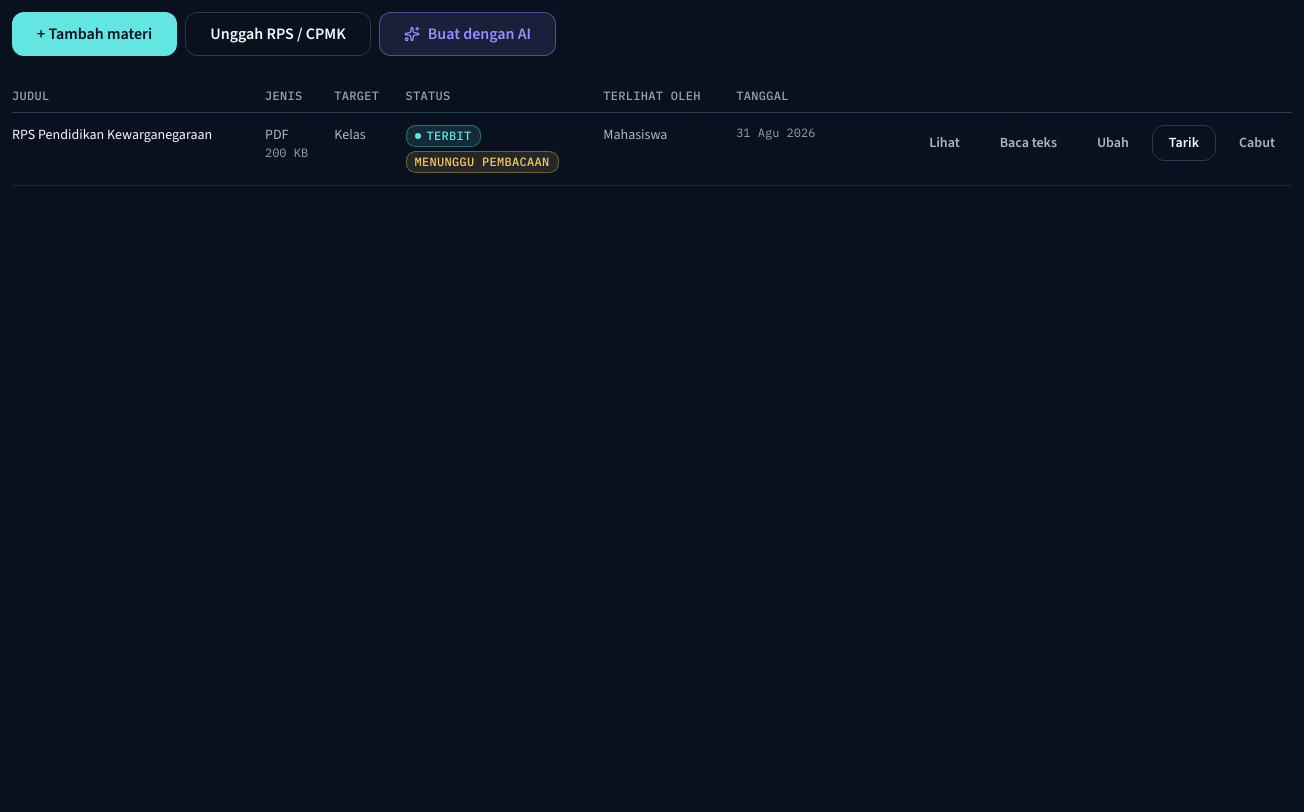
Test: aksi pada bahan › membuka formulir ubah dengan nilai yang sudah ada
Click the button "Ubah".
click(1113, 143)  # box 1080,125 -> 1146,161
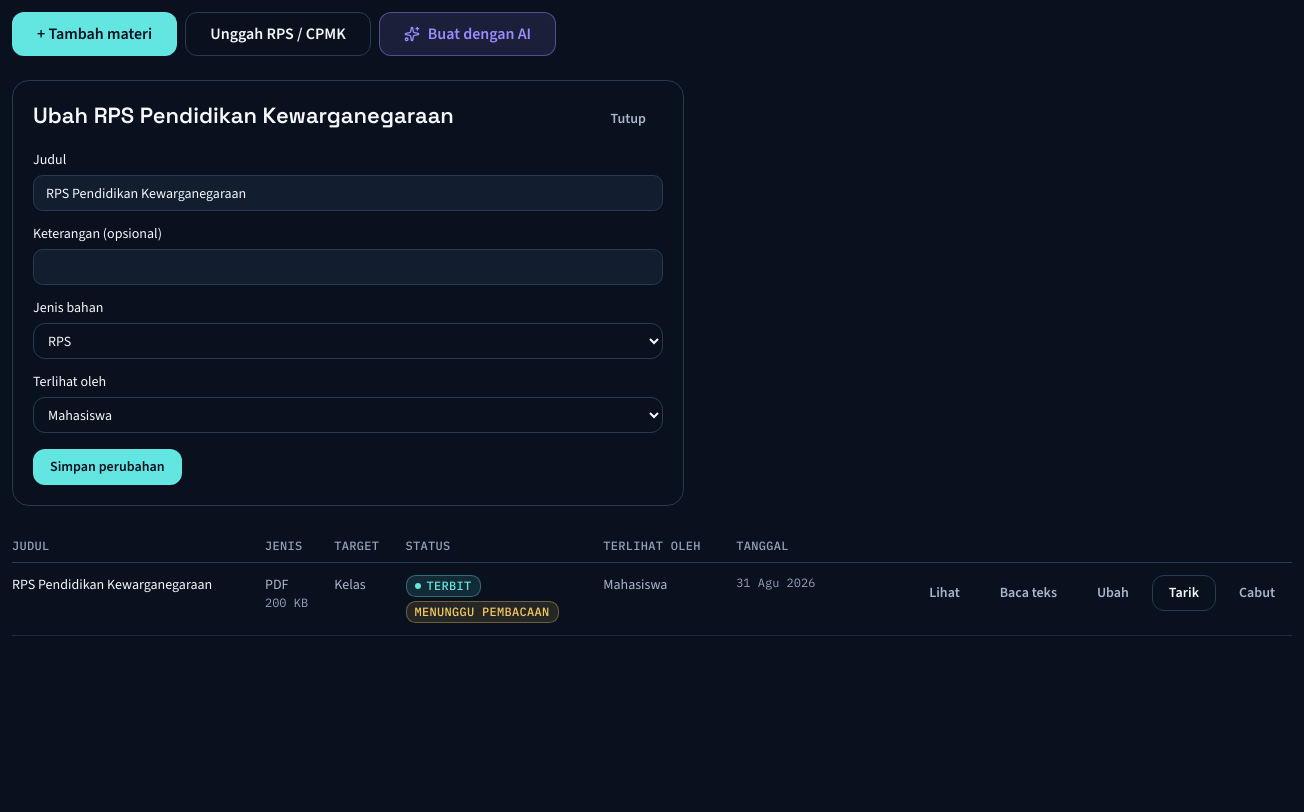
Result: the field labelled "Judul" holds "RPS Pendidikan Kewarganegaraan" at 33,175 -> 663,211
